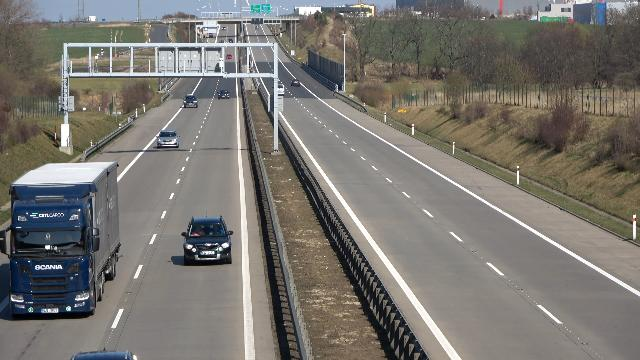car: (181, 217, 236, 266), (155, 129, 181, 150), (182, 93, 198, 109), (273, 84, 286, 96), (217, 90, 230, 100), (290, 78, 301, 87)
truck: (0, 161, 121, 318)
